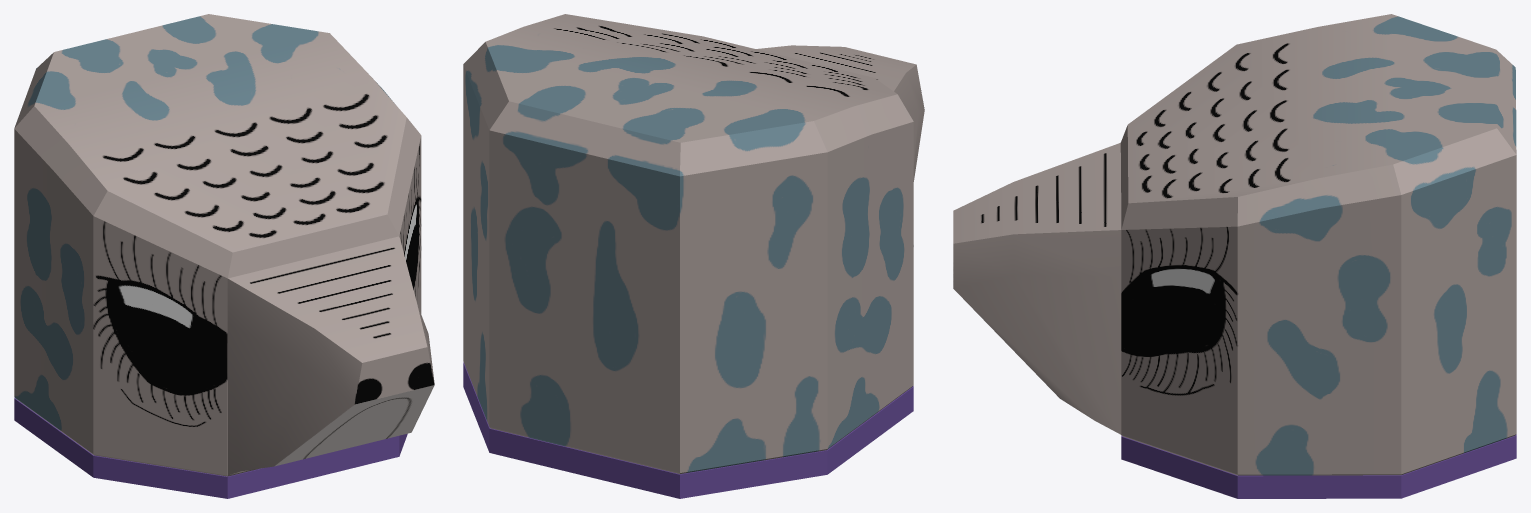
The model's file is arriba_lagarto.fbx.
3 views of the same model, side by side, from view 1: azimuth 30°, elevation 25°; view 2: azimuth 150°, elevation 25°; view 3: azimuth 270°, elevation 25° (orthographic). The views are drawn at different scales.
Visible parts, largest first — view 1: Circle.009, Circle.004, Circle.015; view 2: Circle.009, Circle.015, Circle.004; view 3: Circle.009, Circle.004, Circle.015.
Part boxes in pixels (x1=…): Circle.009: x1=14, y1=14, x2=421, y2=476; Circle.004: x1=227, y1=236, x2=434, y2=475; Circle.015: x1=14, y1=397, x2=407, y2=498; Circle.009: x1=463, y1=14, x2=913, y2=473; Circle.015: x1=463, y1=362, x2=913, y2=498; Circle.004: x1=756, y1=45, x2=924, y2=181; Circle.009: x1=1120, y1=14, x2=1516, y2=475; Circle.004: x1=953, y1=143, x2=1121, y2=434; Circle.015: x1=1121, y1=434, x2=1516, y2=498.
Size of the model in its own units: 260 by 237 by 369.
